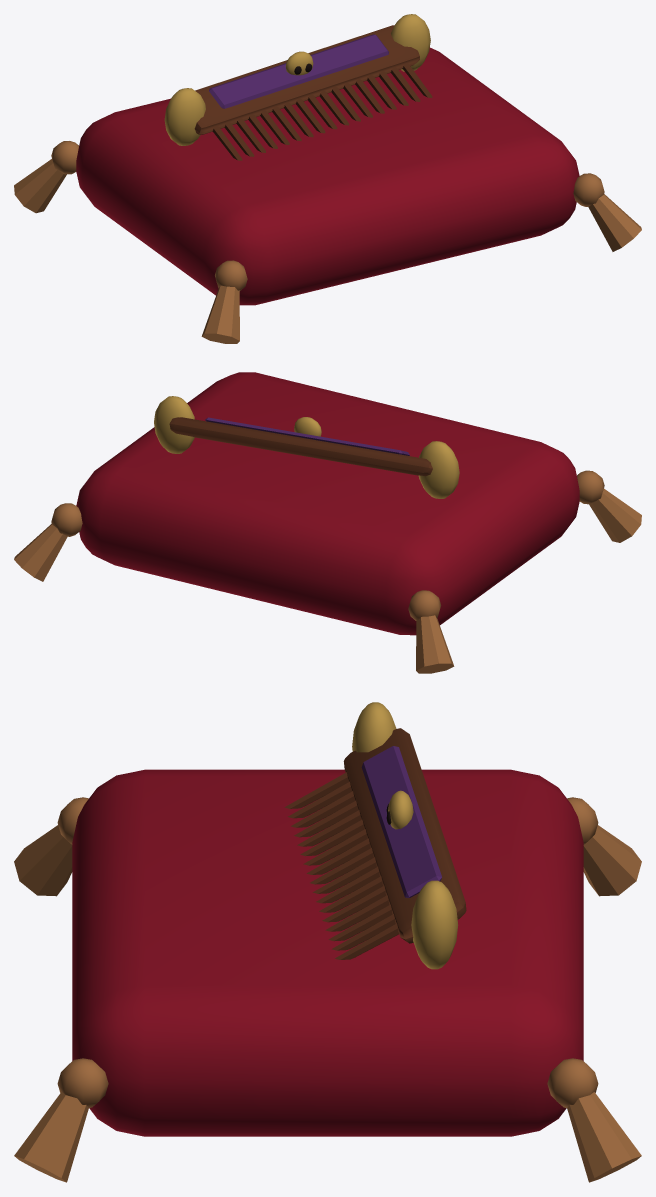
File: PR_PoisonComb.fbx
The picture shows the model from 3 angles, top to bottom: view 1: azimuth 30°, elevation 25°; view 2: azimuth 150°, elevation 25°; view 3: azimuth 270°, elevation 25°; orthographic projection. The views are drawn at different scales.
Parts seen in each view (by area): view 1: PR_PoisonComb_Velvet, Comb_WoodDark, PR_PoisonComb_Tassel, Comb_PurpleInset, Comb_Brass; view 2: PR_PoisonComb_Velvet, PR_PoisonComb_Tassel, Comb_WoodDark, Comb_Brass, Comb_PurpleInset; view 3: PR_PoisonComb_Velvet, PR_PoisonComb_Tassel, Comb_WoodDark, Comb_Brass, Comb_PurpleInset.
Part boxes in pixels (x1,y1,x2,y2): PR_PoisonComb_Velvet: (76, 47, 579, 305); Comb_WoodDark: (194, 25, 432, 160); PR_PoisonComb_Tassel: (14, 141, 641, 343); Comb_PurpleInset: (209, 34, 388, 108); Comb_Brass: (164, 14, 430, 145); PR_PoisonComb_Velvet: (76, 372, 579, 635); PR_PoisonComb_Tassel: (14, 470, 641, 673); Comb_WoodDark: (169, 417, 432, 476); Comb_Brass: (154, 396, 459, 498); Comb_PurpleInset: (205, 417, 409, 455); PR_PoisonComb_Velvet: (72, 769, 583, 1136); PR_PoisonComb_Tassel: (14, 797, 641, 1182); Comb_WoodDark: (284, 728, 466, 959); Comb_Brass: (352, 702, 458, 969); Comb_PurpleInset: (361, 746, 441, 897).
Size of the model in its own units: 0.3549 by 0.1253 by 0.2949.
